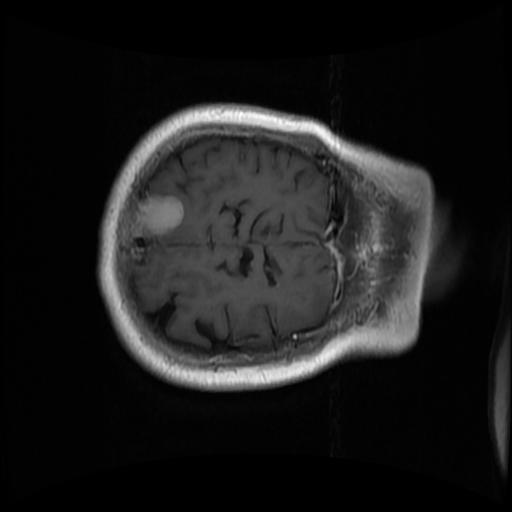meningioma: (130, 195, 184, 237)
